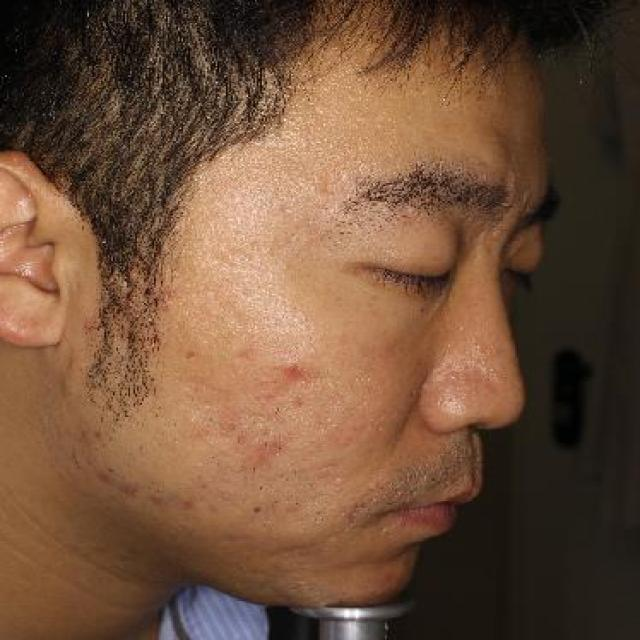papules: (260, 348, 318, 390)
